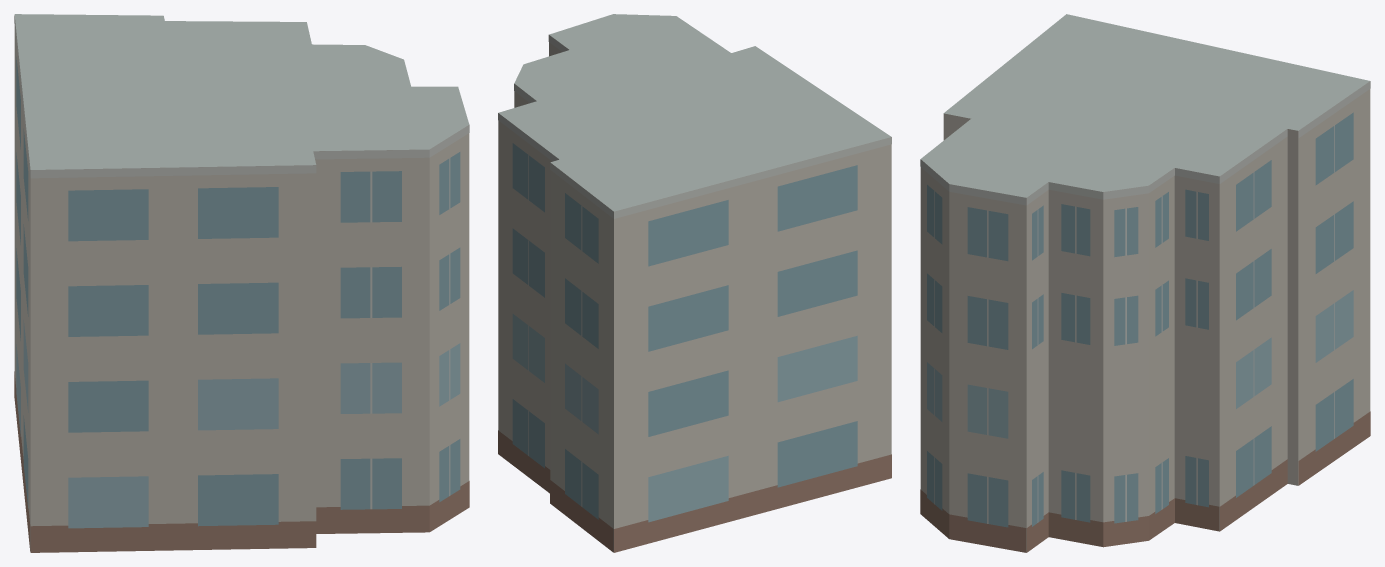
The model's file is survey-upis-32481187.glb.
3 views of the same model, side by side, from view 1: azimuth 30°, elevation 25°; view 2: azimuth 150°, elevation 25°; view 3: azimuth 270°, elevation 25° (orthographic). The views are drawn at different scales.
Visible parts, largest first — view 1: survey-upis-32481187.tmp; view 2: survey-upis-32481187.tmp; view 3: survey-upis-32481187.tmp.
Boxes of the visible parts, bbox=[...] form: survey-upis-32481187.tmp: bbox=[14, 14, 469, 552]; survey-upis-32481187.tmp: bbox=[498, 14, 891, 552]; survey-upis-32481187.tmp: bbox=[920, 14, 1370, 552].
Size of the model in its own units: 12.56 by 11.3 by 12.99.
